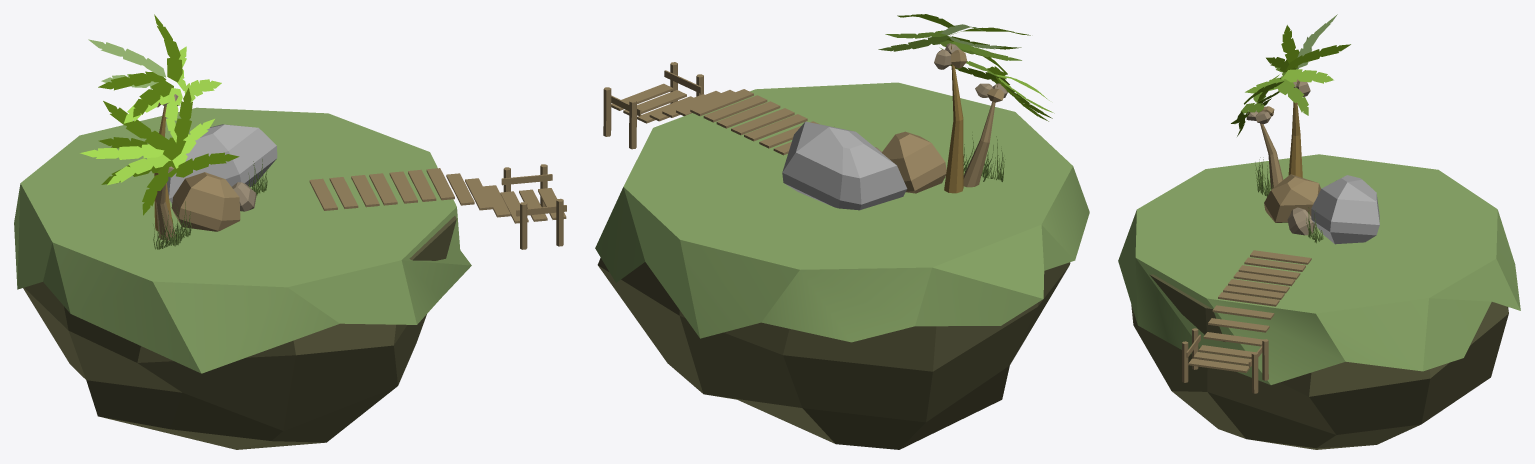
The model's file is island1.fbx.
The picture shows the model from 3 angles, left to right: view 1: azimuth 30°, elevation 25°; view 2: azimuth 150°, elevation 25°; view 3: azimuth 270°, elevation 25°; orthographic projection. The views are drawn at different scales.
Parts seen in each view (by area): view 1: plane, bigfloor, polySurface1 (×6), pSphere1, stone1, polySurface4 (×3), polySurface2 (×3), pCone2; view 2: plane, bigfloor, pSphere1, pCone2 (×2), stone1, pCube5, pCube6, pCube4, pCube3, pCube7, pCube12, pCube13; view 3: plane, bigfloor, pSphere1, stone1, pCone2 (×2), polySurface1 (×2), stone2, polySurface2, polySurface4, pCube8, pCube6, pCube4 (+10 smaller).
Part boxes in pixels (left/top/right/bottom): plane: left=14, top=107, right=471, bottom=373; bigfloor: left=23, top=216, right=456, bottom=449; polySurface1 (×6): left=80, top=14, right=192, bottom=160; pSphere1: left=167, top=124, right=277, bottom=203; stone1: left=171, top=172, right=240, bottom=231; polySurface4 (×3): left=142, top=88, right=239, bottom=215; polySurface2 (×3): left=107, top=81, right=214, bottom=185; pCone2: left=155, top=184, right=175, bottom=240; plane: left=595, top=82, right=1089, bottom=342; bigfloor: left=597, top=258, right=1070, bottom=449; pSphere1: left=782, top=121, right=907, bottom=210; pCone2 (×2): left=944, top=44, right=998, bottom=193; stone1: left=881, top=131, right=946, bottom=193; pCube5: left=716, top=101, right=780, bottom=128; pCube6: left=703, top=95, right=767, bottom=122; pCube4: left=731, top=108, right=794, bottom=135; pCube3: left=744, top=114, right=807, bottom=141; pCube7: left=690, top=89, right=753, bottom=116; pCube12: left=623, top=90, right=686, bottom=115; pCube13: left=611, top=83, right=673, bottom=110; plane: left=1118, top=154, right=1520, bottom=384; bigfloor: left=1131, top=274, right=1508, bottom=449; pSphere1: left=1311, top=175, right=1379, bottom=244; stone1: left=1264, top=174, right=1320, bottom=222; pCone2 (×2): left=1260, top=102, right=1302, bottom=188; polySurface1 (×2): left=1281, top=25, right=1350, bottom=70; stone2: left=1287, top=207, right=1315, bottom=235; polySurface2: left=1282, top=69, right=1333, bottom=83; polySurface4: left=1277, top=79, right=1308, bottom=115; pCube8: left=1212, top=305, right=1274, bottom=319; pCube6: left=1223, top=285, right=1284, bottom=299; pCube4: left=1233, top=271, right=1295, bottom=286.
Size of the model in its own units: 39.54 by 34.43 by 33.14.
